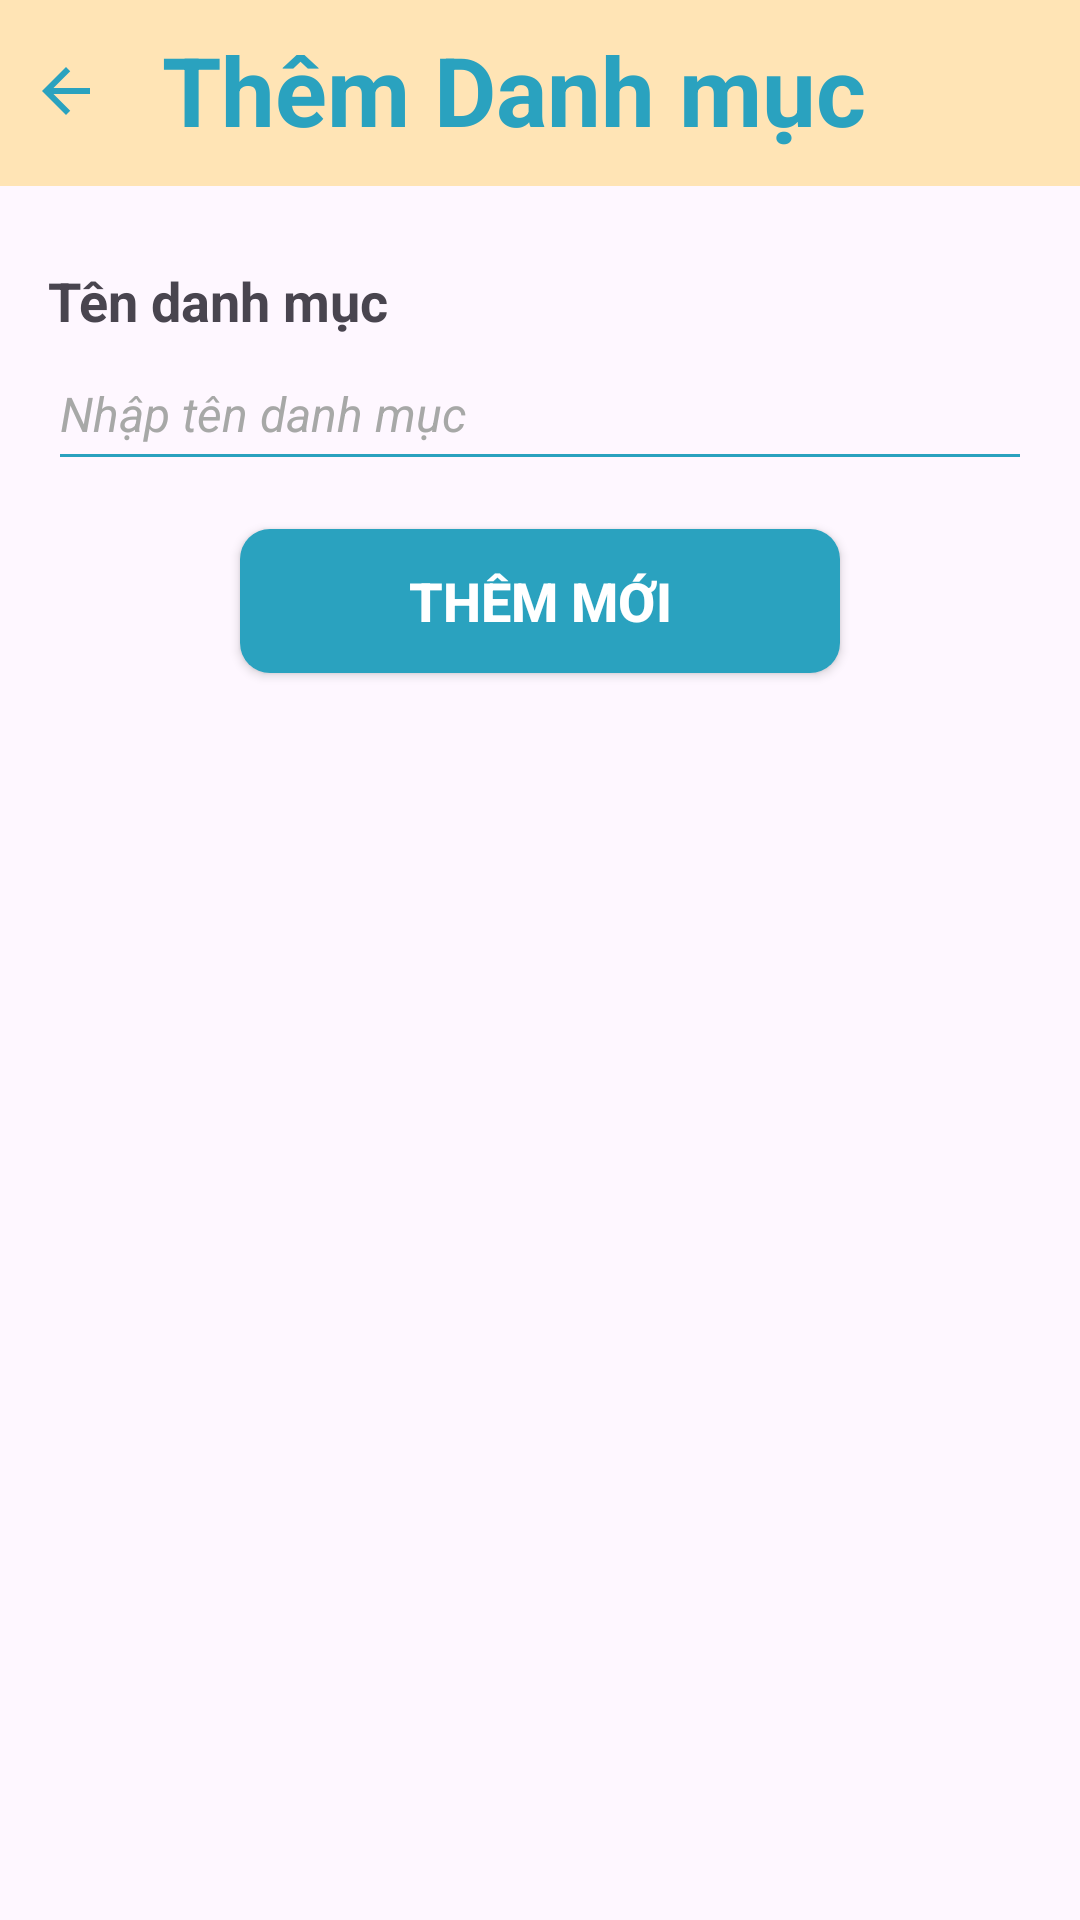

Icons on this 1080x1920 Android screen, each with its box as (x1, y1, x2, y2):
Go back: (42, 67, 90, 115)
